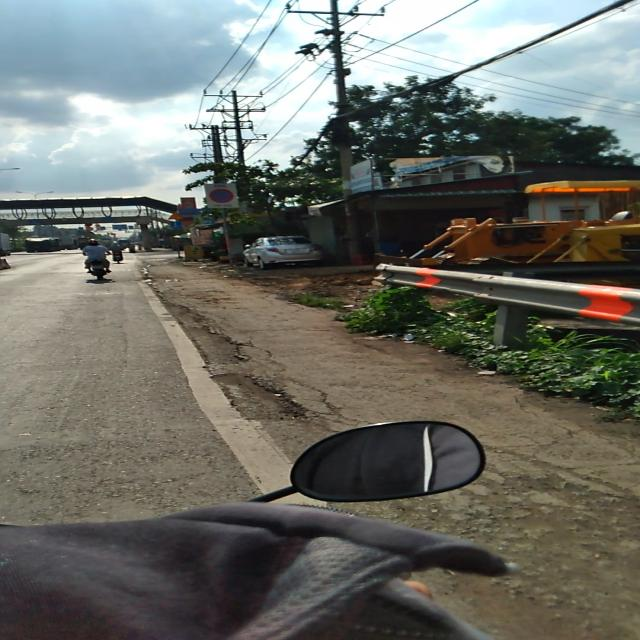Cam dung va do: (209, 189, 234, 203)
